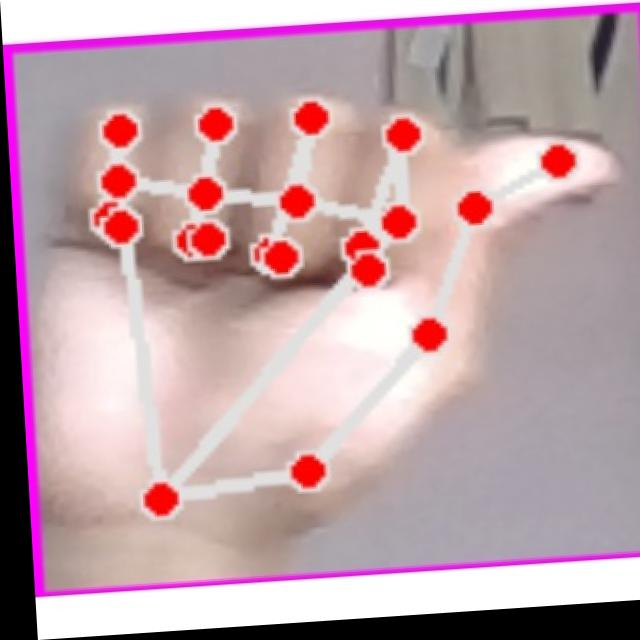A: (47, 58, 640, 566)
